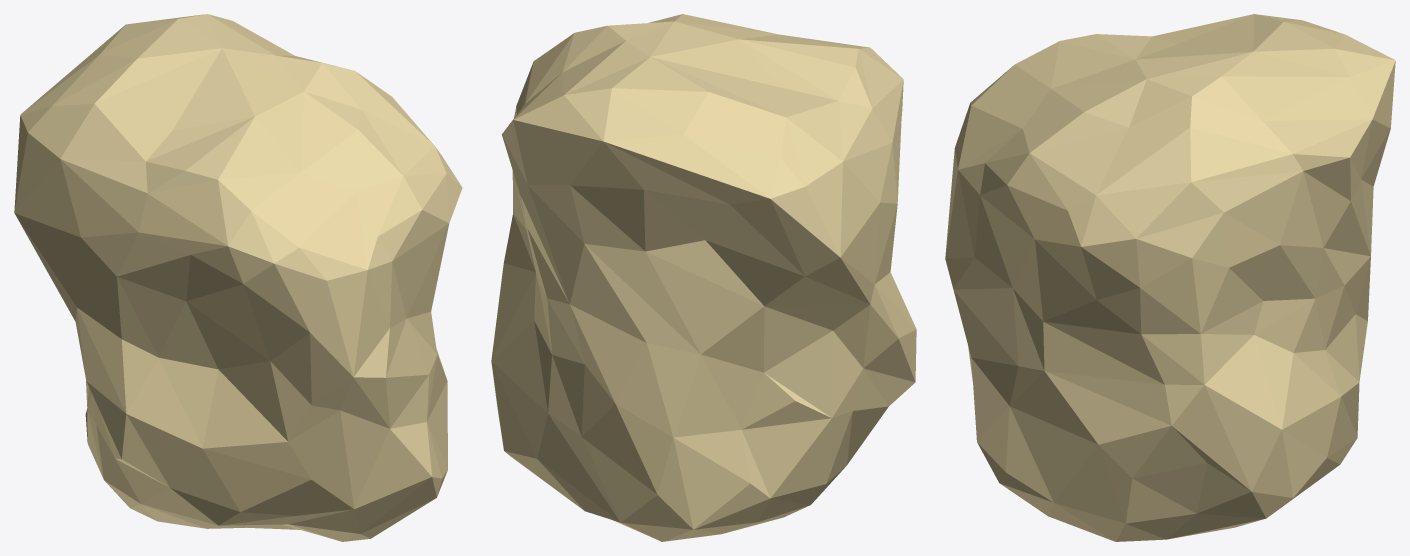
File: Asteroid (79).fbx
The picture shows the model from 3 angles, left to right: view 1: azimuth 30°, elevation 25°; view 2: azimuth 150°, elevation 25°; view 3: azimuth 270°, elevation 25°; orthographic projection. The views are drawn at different scales.
Visible parts, largest first — view 1: Asteroid113; view 2: Asteroid113; view 3: Asteroid113.
Part boxes in pixels (box(x1,y1,x2,y2)): Asteroid113: box(14, 14, 462, 541); Asteroid113: box(491, 14, 916, 541); Asteroid113: box(945, 14, 1395, 541).
Bounding box in the file's own units: 175 × 205 × 187.
